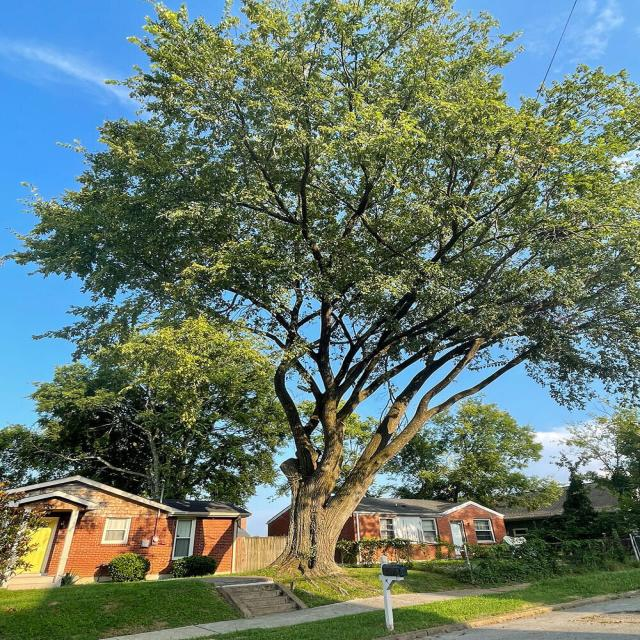Tree: (30, 0, 637, 571)
